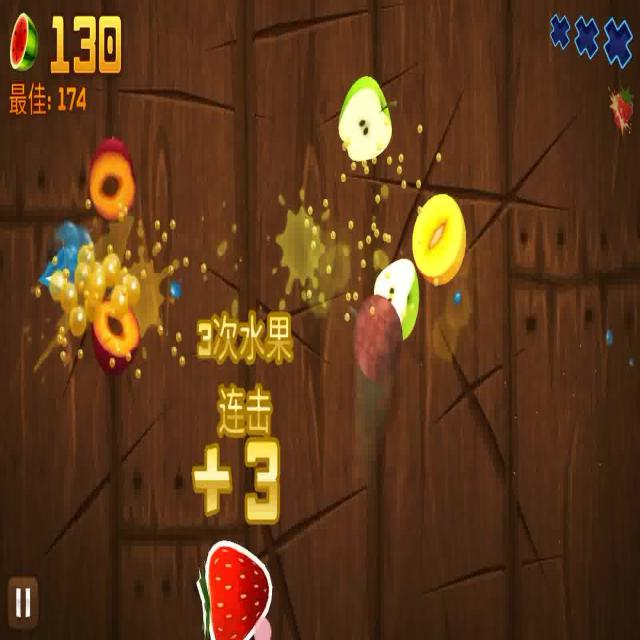fruit: (193, 532, 272, 640), (372, 248, 428, 341), (332, 77, 392, 163), (349, 296, 406, 381), (416, 186, 465, 280), (86, 140, 140, 223), (88, 296, 138, 374)
